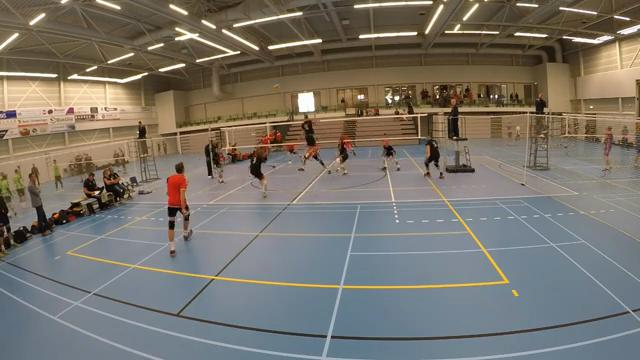Attack: (294, 107, 321, 163)
Player: (167, 162, 192, 256), (249, 147, 266, 197), (424, 139, 443, 178), (382, 140, 399, 170), (211, 143, 223, 182), (336, 135, 348, 174), (260, 134, 270, 161), (344, 135, 355, 155), (285, 144, 296, 163)
ball: (273, 82, 279, 91)
